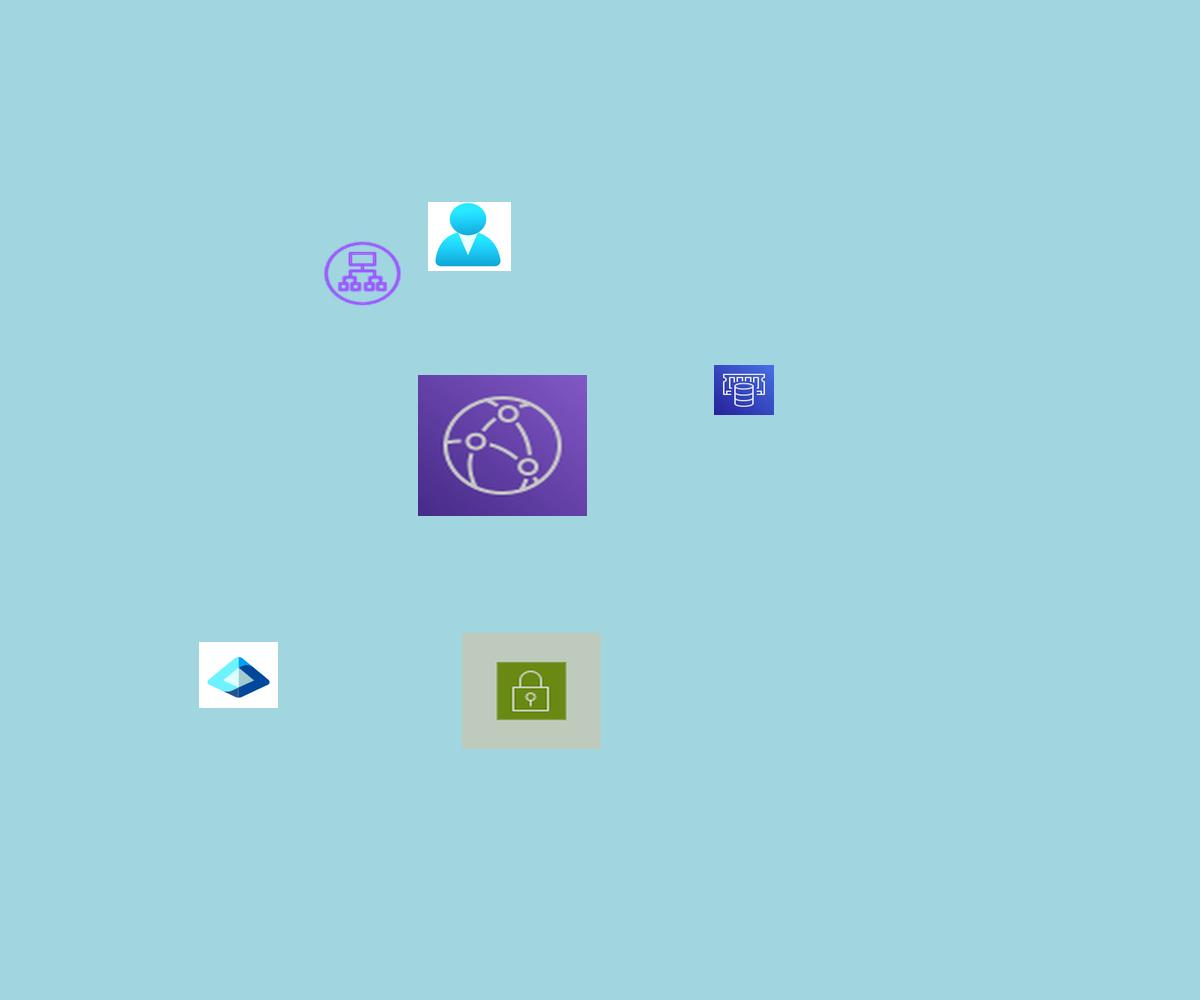AWS-CloudFront: (418, 375, 587, 516)
AWS-ElastiCache: (714, 365, 774, 415)
AWS-Public-subnet: (462, 633, 601, 749)
AWS-Res_Elastic-Load-Balancing_Application-Load-Balancer: (321, 239, 404, 308)
Azure_microsoft_entra: (199, 642, 278, 708)
Azure_users: (428, 202, 511, 271)
